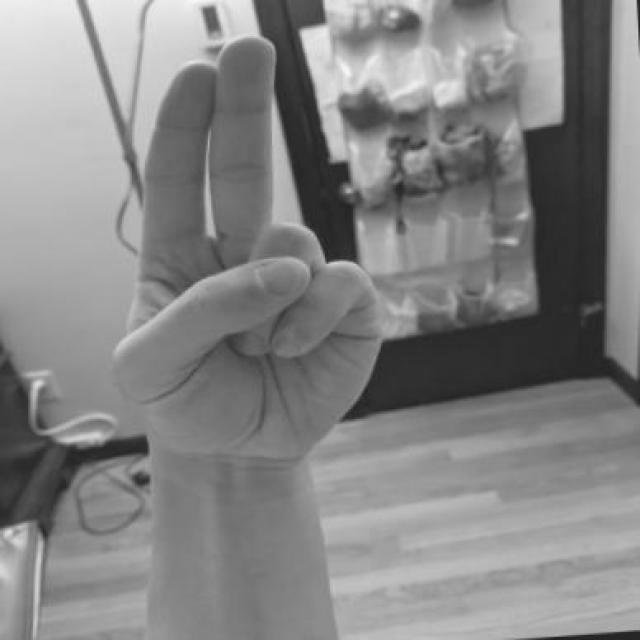U: (88, 21, 398, 477)
